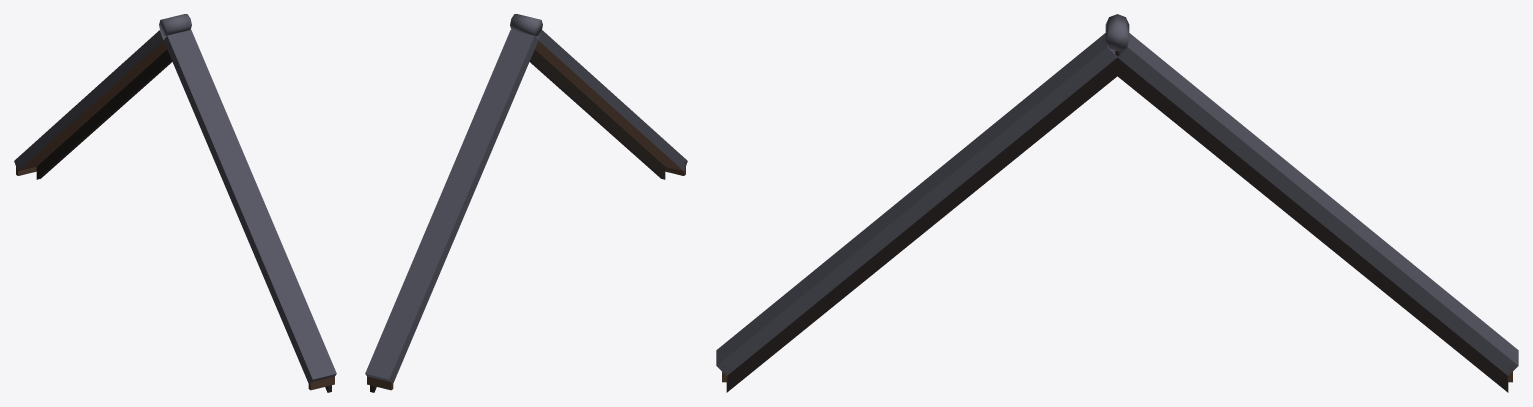
File: kit_timber_slate_w4_end.glb
The picture shows the model from 3 angles, left to right: view 1: azimuth 30°, elevation 25°; view 2: azimuth 150°, elevation 25°; view 3: azimuth 270°, elevation 25°; orthographic projection. The views are drawn at different scales.
Parts seen in each view (by area): view 1: kit_timber_slate_w4_end; view 2: kit_timber_slate_w4_end; view 3: kit_timber_slate_w4_end.
Part boxes in pixels (left/top/right/bottom): kit_timber_slate_w4_end: left=14, top=14, right=336, bottom=392; kit_timber_slate_w4_end: left=365, top=14, right=687, bottom=392; kit_timber_slate_w4_end: left=716, top=14, right=1518, bottom=392.
Size of the model in its own units: 0.22 by 2.36 by 4.72.
